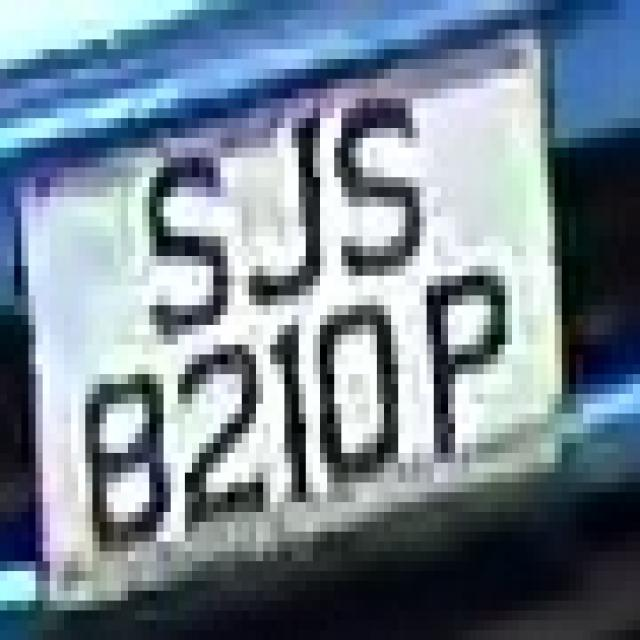0: (299, 276, 405, 522)
1: (256, 295, 334, 532)
2: (157, 305, 263, 522)
8: (64, 345, 185, 561)
J: (234, 69, 348, 315)
P: (406, 246, 526, 483)
S: (128, 98, 249, 354), (327, 69, 434, 285)
